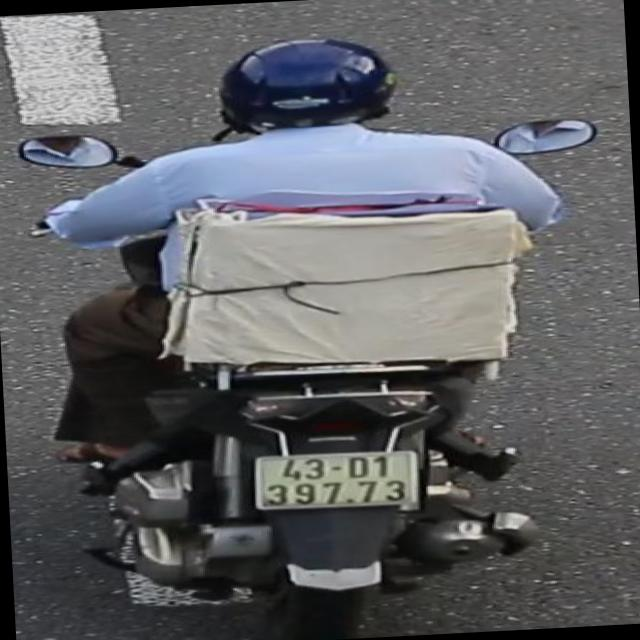LP: (249, 442, 433, 520)
helmet: (210, 28, 412, 148)
